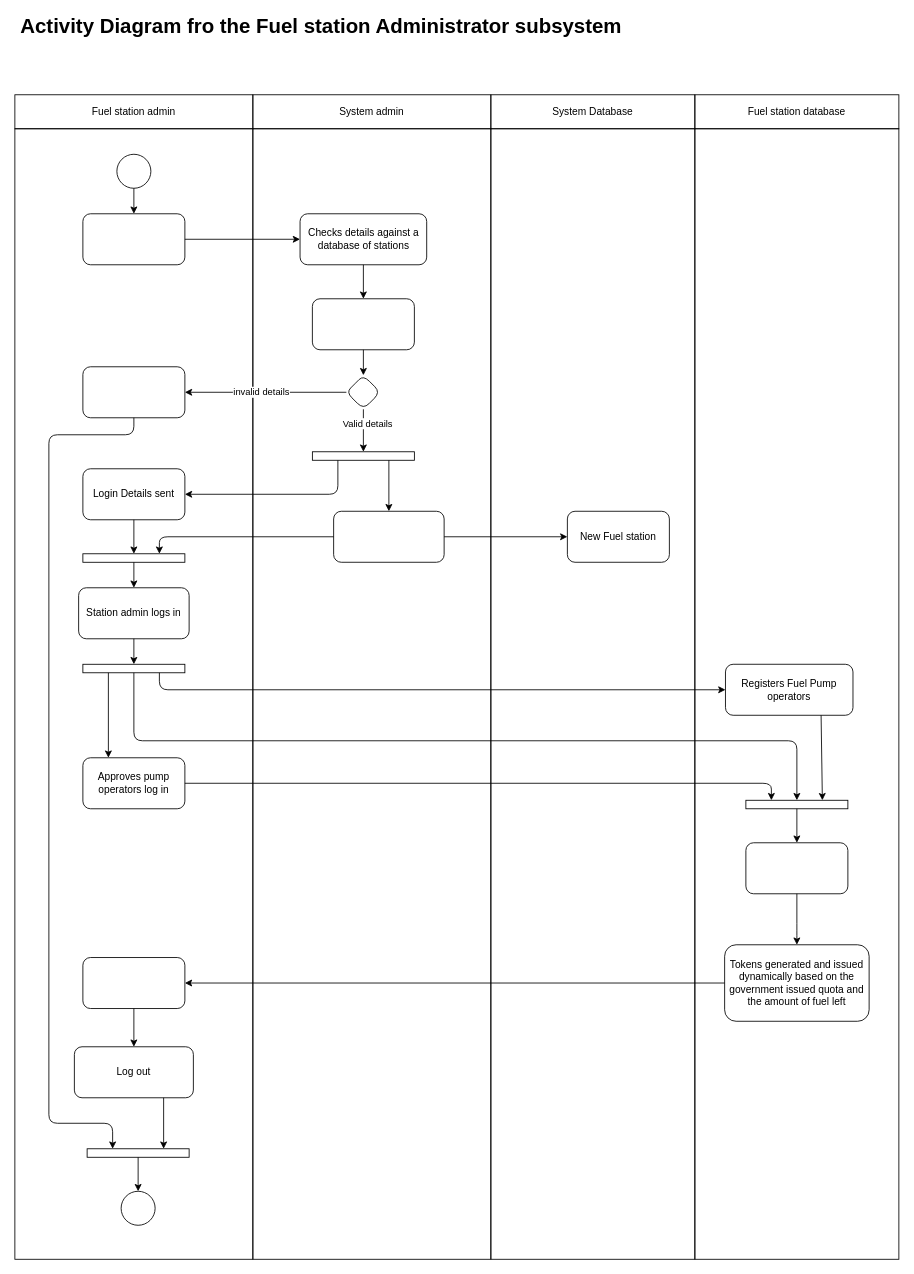
This 914x1274 diagram has some shape labels left out. Each missing label, with the centre of its shape:
add entry to the list of registered stations: (x=388, y=536)
Station admin registers on the app: (x=133, y=239)
Terminate token generation when required: (x=133, y=983)
Updates fuel availability: (x=796, y=868)
Verification error: (x=133, y=392)
verify Details: (x=363, y=324)
